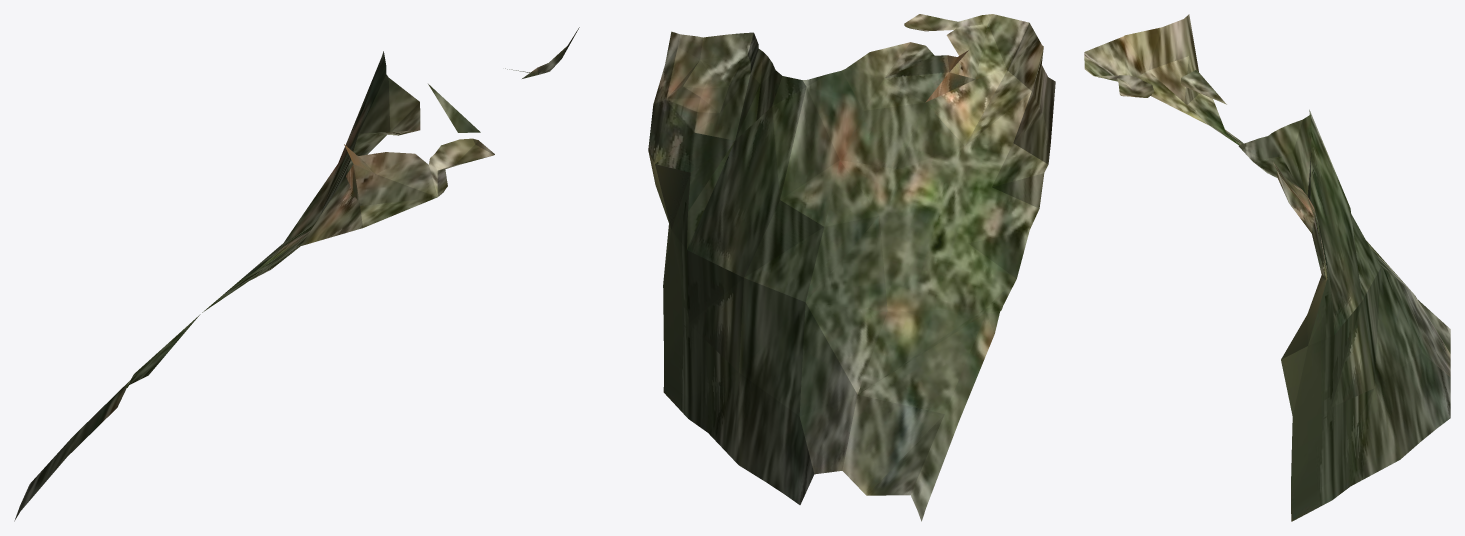
The picture shows the model from 3 angles, left to right: view 1: azimuth 30°, elevation 25°; view 2: azimuth 150°, elevation 25°; view 3: azimuth 270°, elevation 25°; orthographic projection. The views are drawn at different scales.
Bounding box in the file's own units: 2.95 × 2.95 × 2.83.
Materials: 3 (3 with a texture image).
